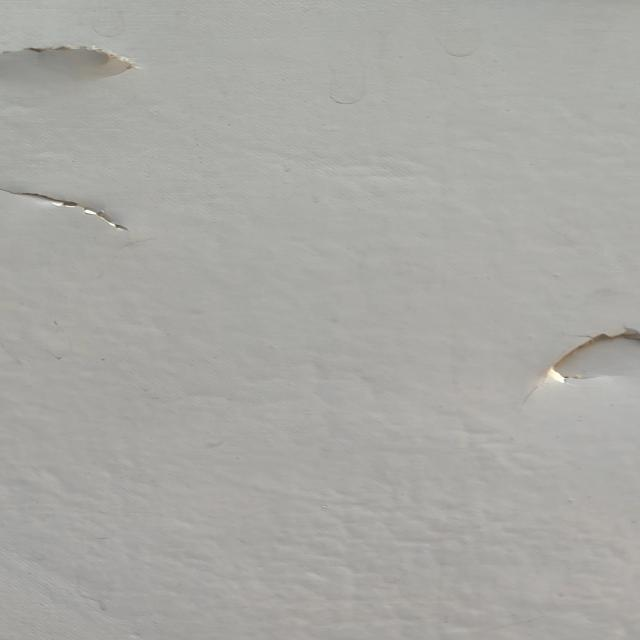Scratches: (1, 178, 161, 242), (1, 32, 153, 96), (544, 306, 640, 406)
